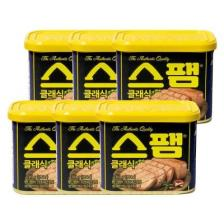spam: (96, 100, 201, 194), (111, 29, 217, 122), (53, 99, 141, 195), (7, 100, 94, 195), (67, 29, 147, 116), (23, 29, 102, 115)
